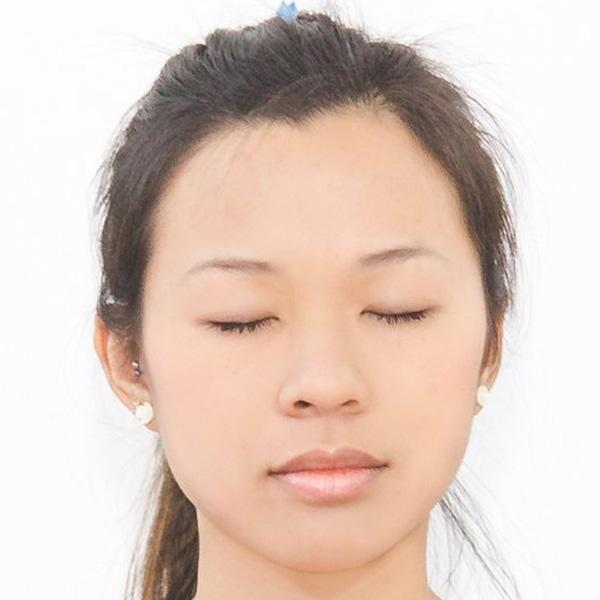Eyes: (352, 278, 449, 338), (193, 291, 288, 344)
